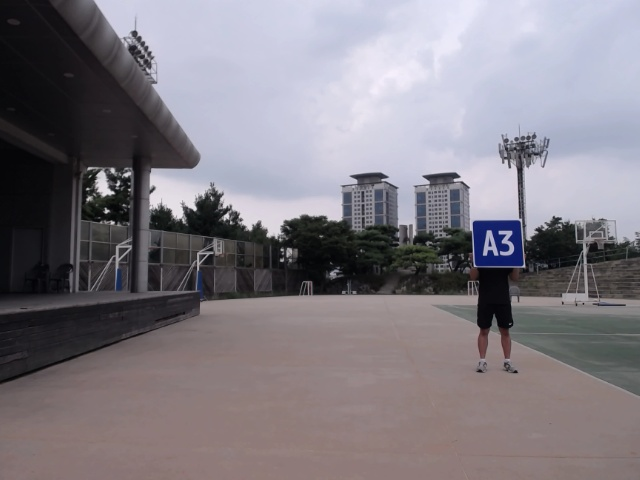delivery_a3: (472, 220, 525, 267)
